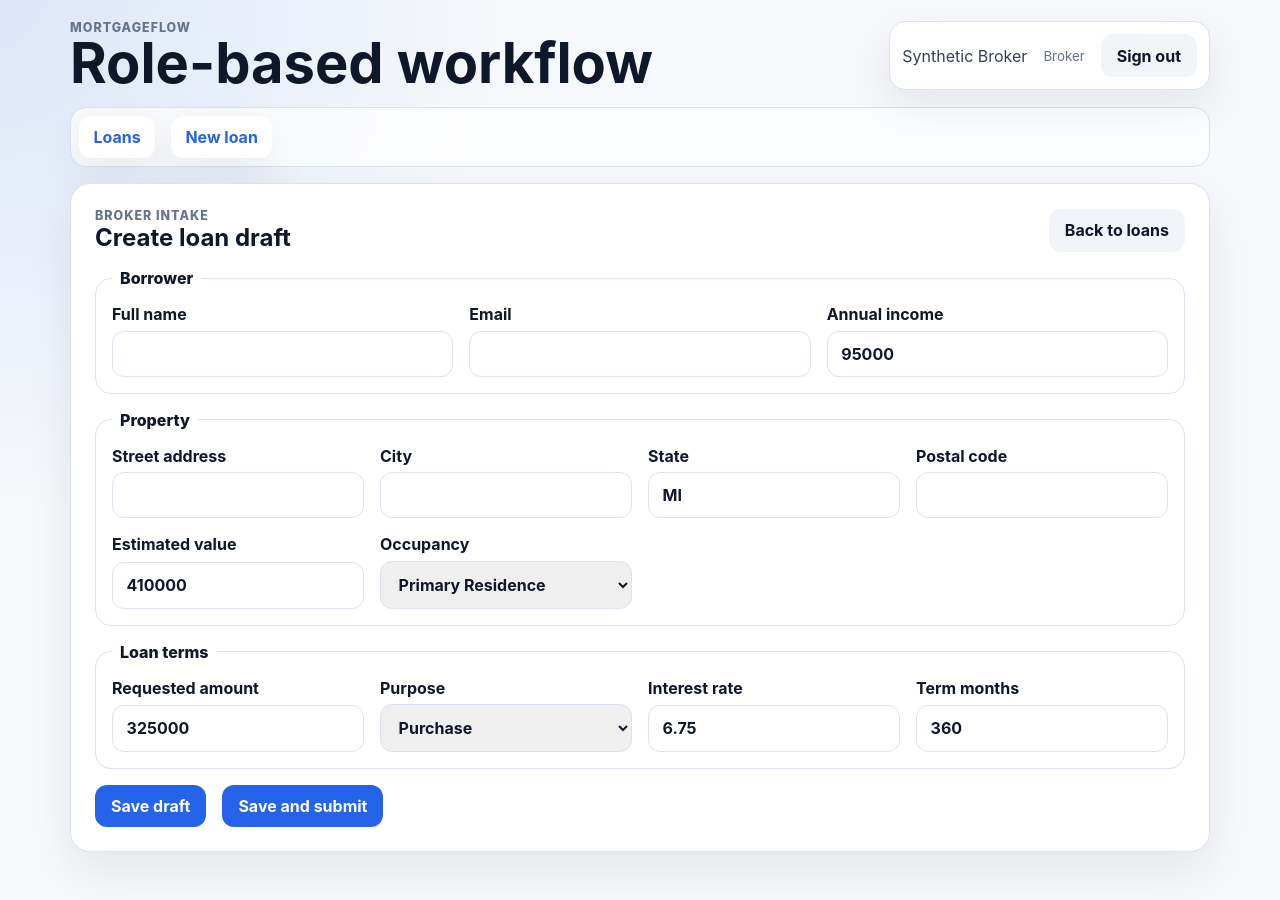
it: LoanFormPage › validates required borrower and property inputs
The image size is (1280, 900).
Clear the field labelled "Full name": [283, 354] box [112,331,453,377]
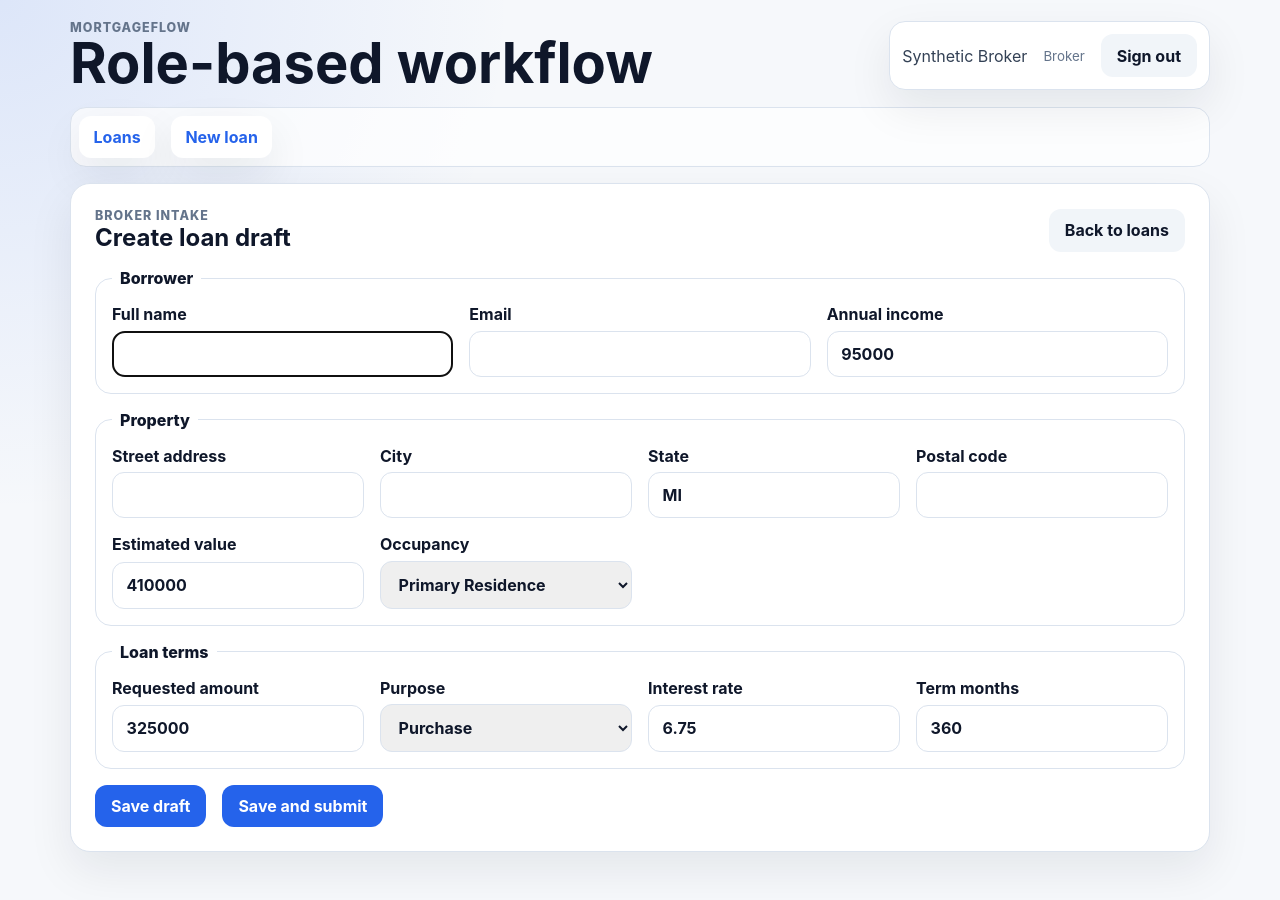
Click the button "Save and submit": [303, 806] box [222,785,383,827]
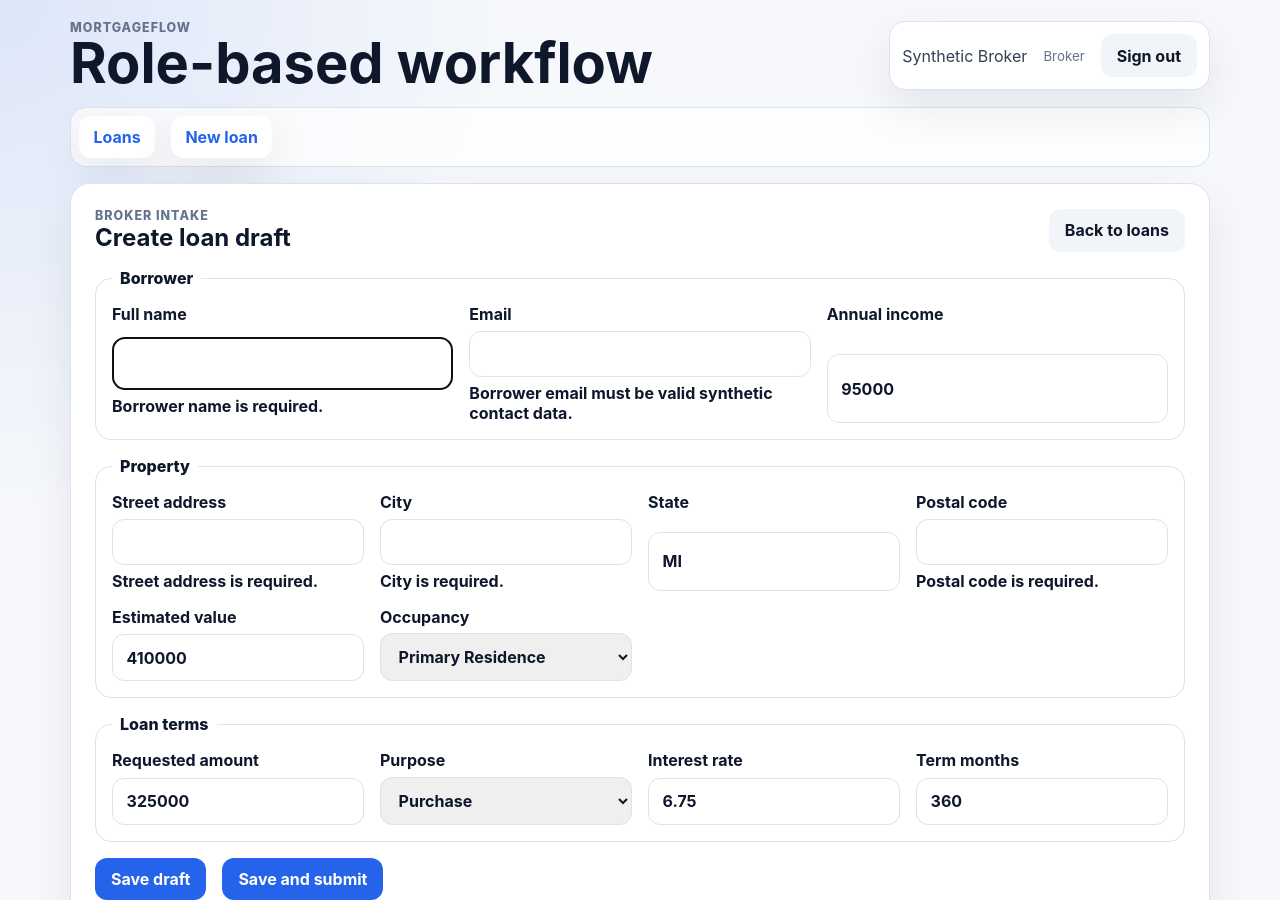
Expected: the text "Borrower name is required." is shown, [112,396,323,416]
Expected: the text "Street address is required." is shown, [112,571,318,591]
